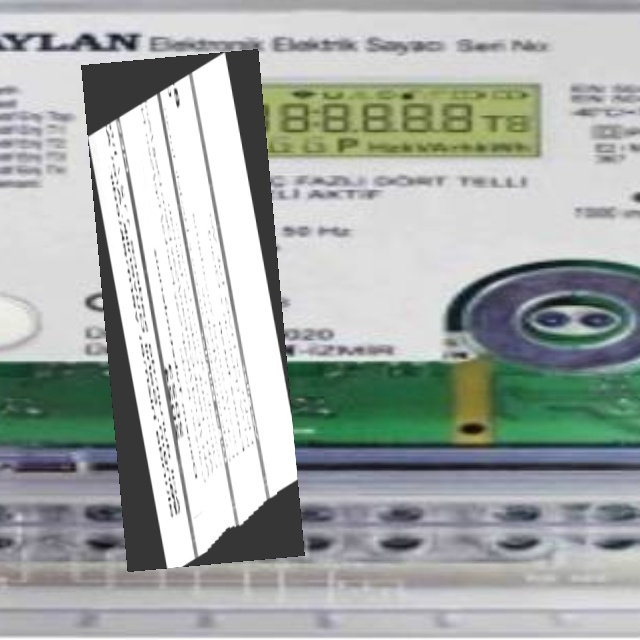electricity-bill: (80, 49, 304, 571)
